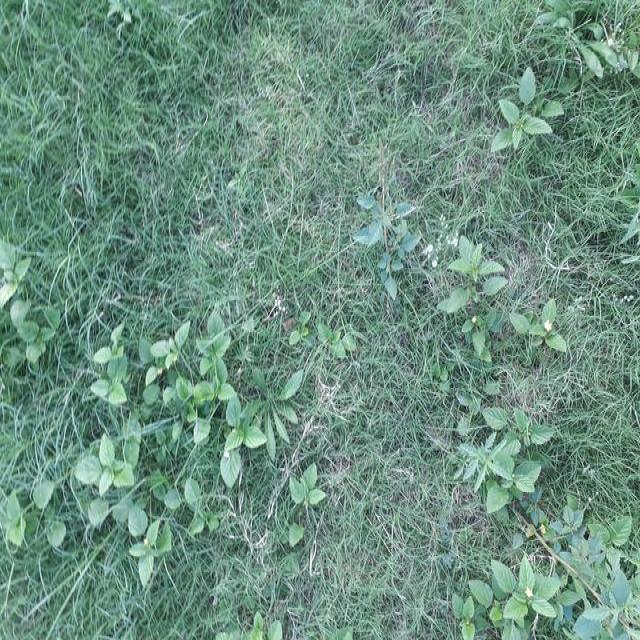weed: (158, 354, 348, 574), (80, 374, 167, 618), (437, 266, 556, 392), (473, 563, 640, 640), (460, 408, 554, 516), (474, 88, 558, 178), (339, 234, 411, 324), (2, 318, 56, 407)
